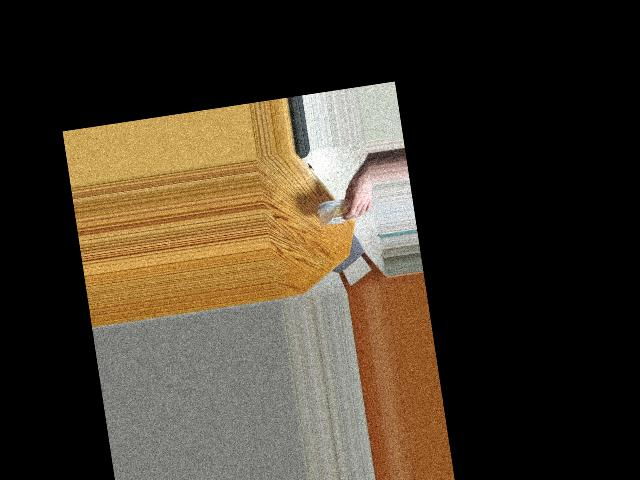cheese: (317, 188, 367, 233)
